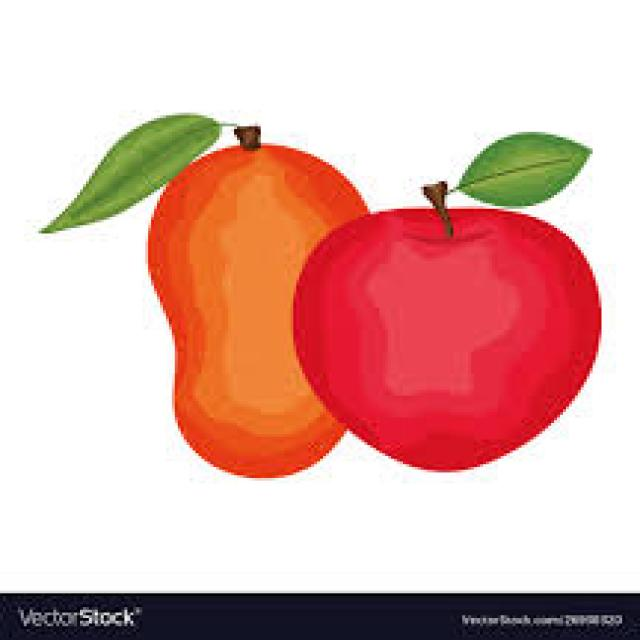Apple: (294, 207, 607, 471)
Mango: (150, 139, 372, 476)
